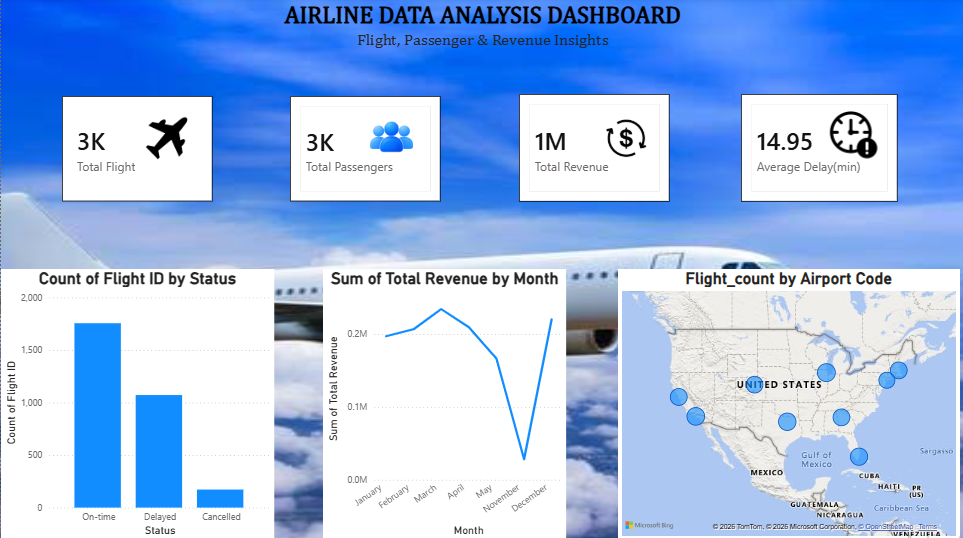

This screenshot's page, from the dashboard's own definition file:
{"tool":"powerbi","page":{"name":"Page 1","canvas":[1280,720],"ordinal":0},"visuals":[{"type":"cardVisual","fields":{"Data":["Airline_Airports.Total_flight"]},"box":[80.5,130.2,200.5,140.5],"z":0},{"type":"cardVisual","fields":{"Data":["Airline_Airports.Average_delay(min)"]},"box":[983.4,127.3,207.8,143.4],"z":1000},{"type":"cardVisual","fields":{"Data":["Airline_Airports.Total_revenue"]},"box":[687.8,127.3,200.5,143.4],"z":2000},{"type":"cardVisual","fields":{"Data":["Airline_Airports.Total_passengers"]},"box":[383.4,130.2,200.5,140.5],"z":3000},{"type":"clusteredColumnChart","fields":{"Category":["Airline_Flights.Status"],"Y":["CountNonNull(Airline_Revenue.Flight ID)"]},"box":[0,360,362.9,360],"z":4000},{"type":"lineChart","fields":{"Category":["Airline_Flights.Date.Variation.Date Hierarchy.Month"],"Y":["Sum(Airline_Revenue.Total Revenue)"]},"box":[427.3,360,323.4,360],"z":5000},{"type":"map","fields":{"Category":["Airline_Airports.Airport Code"],"Size":["Airline_Airports.Flight_count"]},"box":[819.5,360,453.7,360],"z":6000},{"type":"textbox","box":[0,0,1280,102.5],"z":7000},{"type":"image","box":[181.5,149.3,76.1,74.6],"z":8000},{"type":"image","box":[474.1,134.6,89.3,101],"z":9000},{"type":"image","box":[788.8,149.3,83.4,74.6],"z":10000},{"type":"image","box":[1087.1,148.6,91.4,65.7],"z":11000}]}

Visuals, with their boxes in screenshot pixels (x1, y1, x2, y2), scaled from the page's 1280x720 canvas onto the 963x538 screenshot:
cardVisual - Airline_Airports.Total_flight: l=61, t=97, r=211, b=202
cardVisual - Airline_Airports.Average_delay(min): l=740, t=95, r=896, b=202
cardVisual - Airline_Airports.Total_revenue: l=517, t=95, r=668, b=202
cardVisual - Airline_Airports.Total_passengers: l=288, t=97, r=439, b=202
clusteredColumnChart - Airline_Flights.Status x CountNonNull(Airline_Revenue.Flight ID): l=0, t=269, r=273, b=537
lineChart - Airline_Flights.Date.Variation.Date Hierarchy.Month x Sum(Airline_Revenue.Total Revenue): l=321, t=269, r=565, b=537
map - Airline_Airports.Airport Code x Airline_Airports.Flight_count: l=617, t=269, r=958, b=537
textbox: l=0, t=0, r=962, b=77
image: l=137, t=112, r=194, b=167
image: l=357, t=101, r=424, b=176
image: l=593, t=112, r=656, b=167
image: l=818, t=111, r=887, b=160
